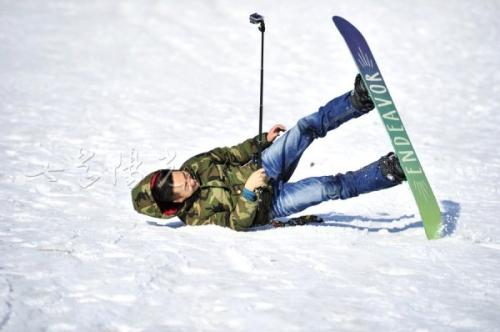fall: (132, 67, 415, 235)
